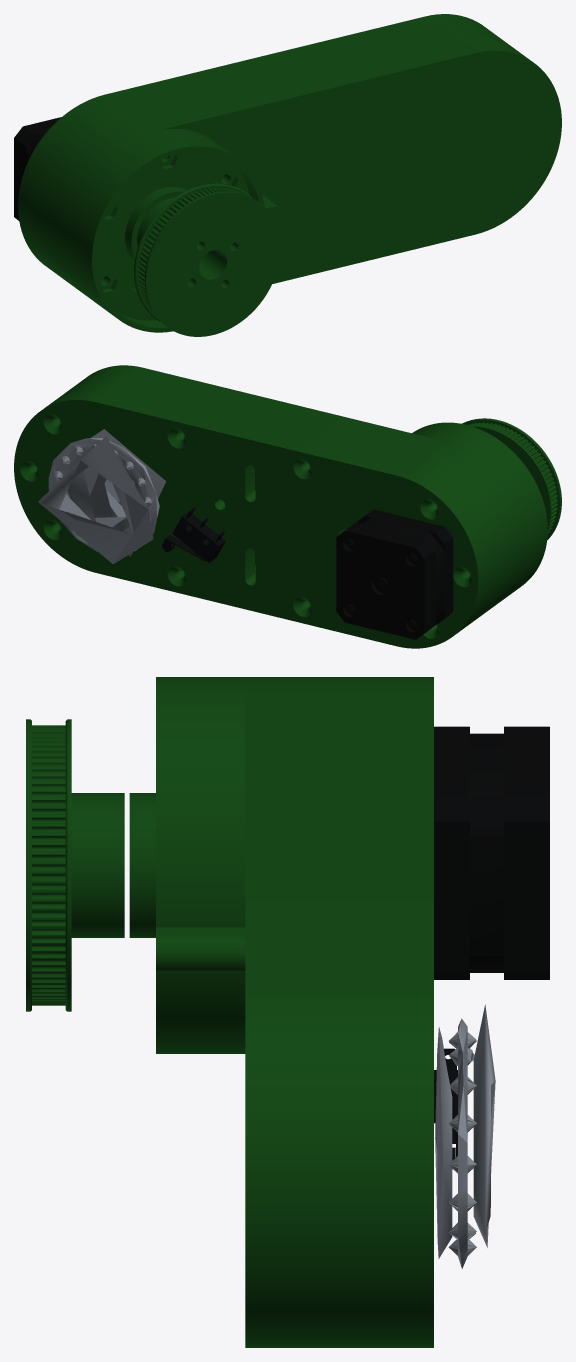
Rendered from arm2_link.obj.
3 renders of one model, top to bottom at view 1: azimuth 30°, elevation 25°; view 2: azimuth 150°, elevation 25°; view 3: azimuth 270°, elevation 25°, orthographic. The views are drawn at different scales.
Visible parts, largest first — view 1: arm2_link_printed, arm2_link_motor; view 2: arm2_link_printed, arm2_link_motor, arm2_link_metal, arm2_link_switch; view 3: arm2_link_printed, arm2_link_motor, arm2_link_metal.
Boxes of the visible parts, <box> form: arm2_link_printed: <box>18,14,561,336</box>; arm2_link_motor: <box>14,117,61,220</box>; arm2_link_printed: <box>14,365,561,648</box>; arm2_link_motor: <box>336,509,453,639</box>; arm2_link_metal: <box>38,429,165,564</box>; arm2_link_switch: <box>162,507,225,562</box>; arm2_link_printed: <box>26,677,433,1347</box>; arm2_link_motor: <box>434,726,549,979</box>; arm2_link_metal: <box>435,1004,495,1268</box>.
Size of the model in its own units: 0.222 by 0.078 by 0.1084.
